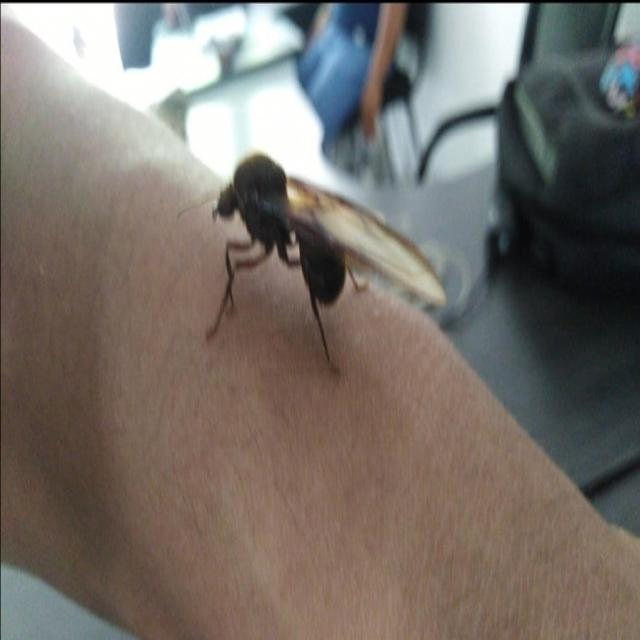Alive-Female-Alate: (176, 152, 447, 380)
